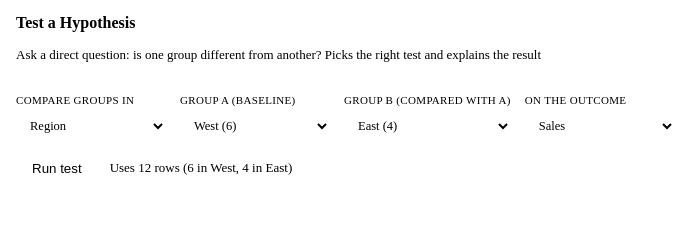
Test: HypothesisTestPanel › an unusable question shows the server's plain-language reason, not an error
Click the button "Run test". click: [57, 168]
box: [16,152,98,184]
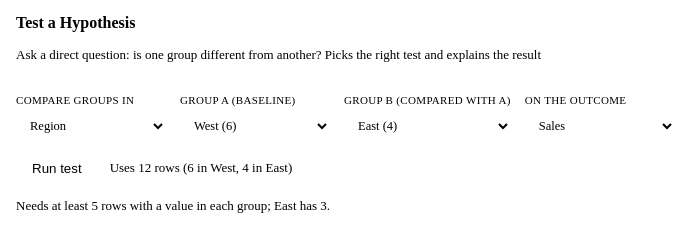
expect the text "Needs at least 5 rows" is shown: met, box [16,198,330,212]
